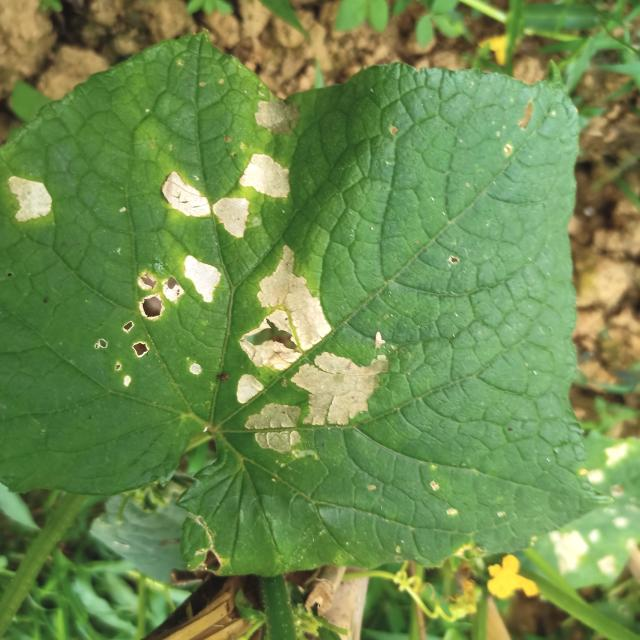disease_cucumber: (231, 254, 397, 466), (87, 248, 220, 394), (159, 156, 290, 242), (4, 170, 57, 234)
